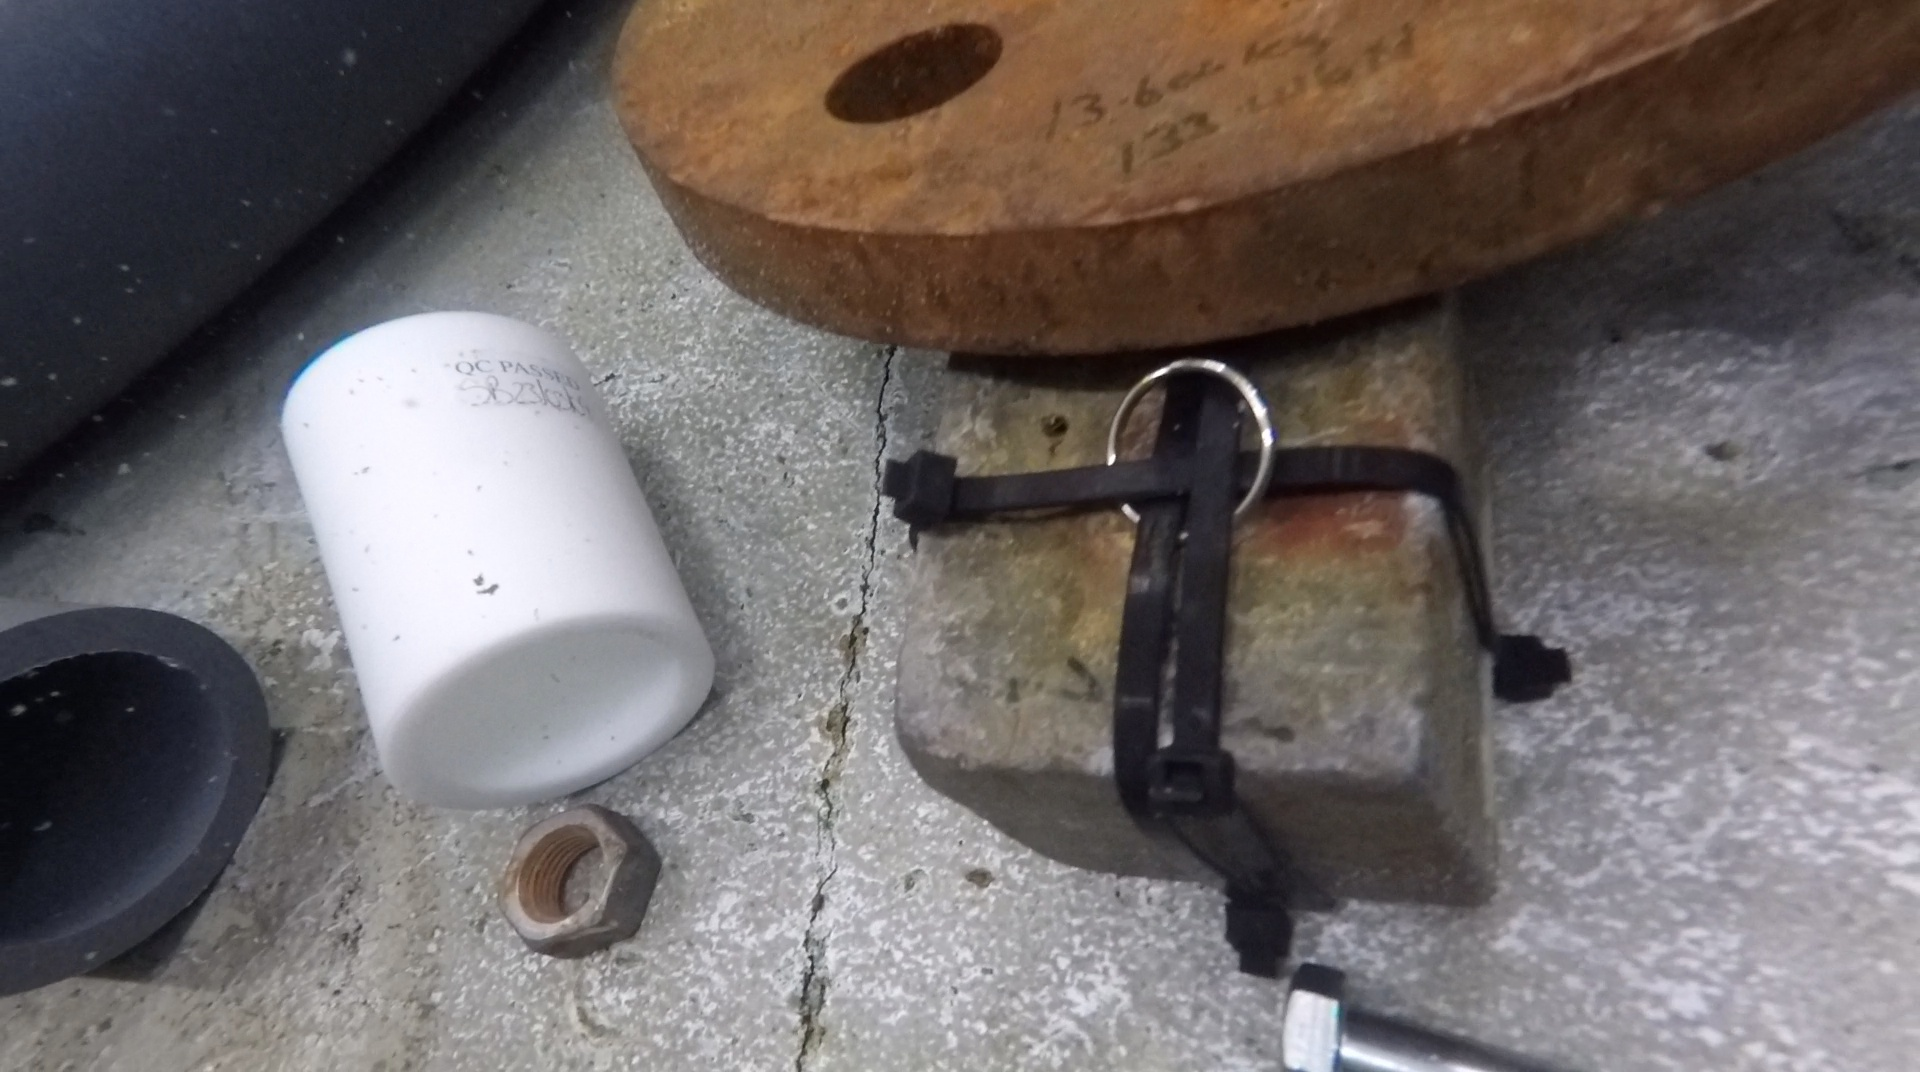bolt: (1278, 964, 1588, 1072)
flange: (609, 3, 1920, 361)
led_block: (881, 289, 1575, 977)
nut: (495, 800, 659, 963)
pipe: (278, 309, 723, 811), (1, 588, 276, 997)
